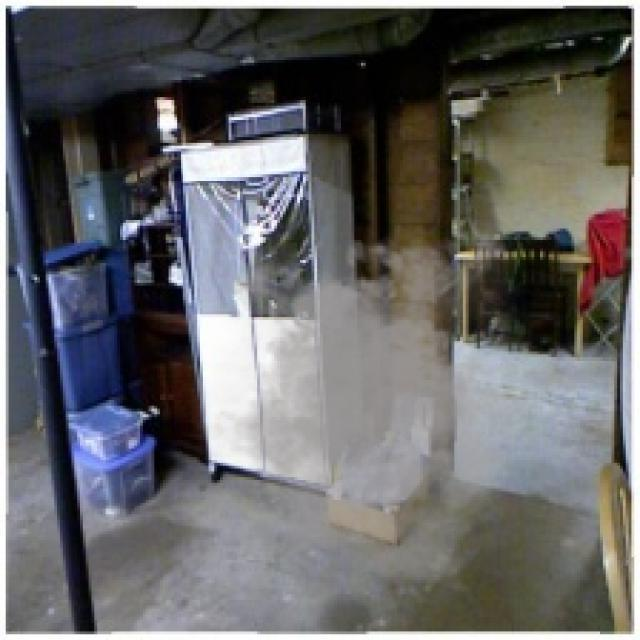Smoke: (177, 217, 566, 589)
